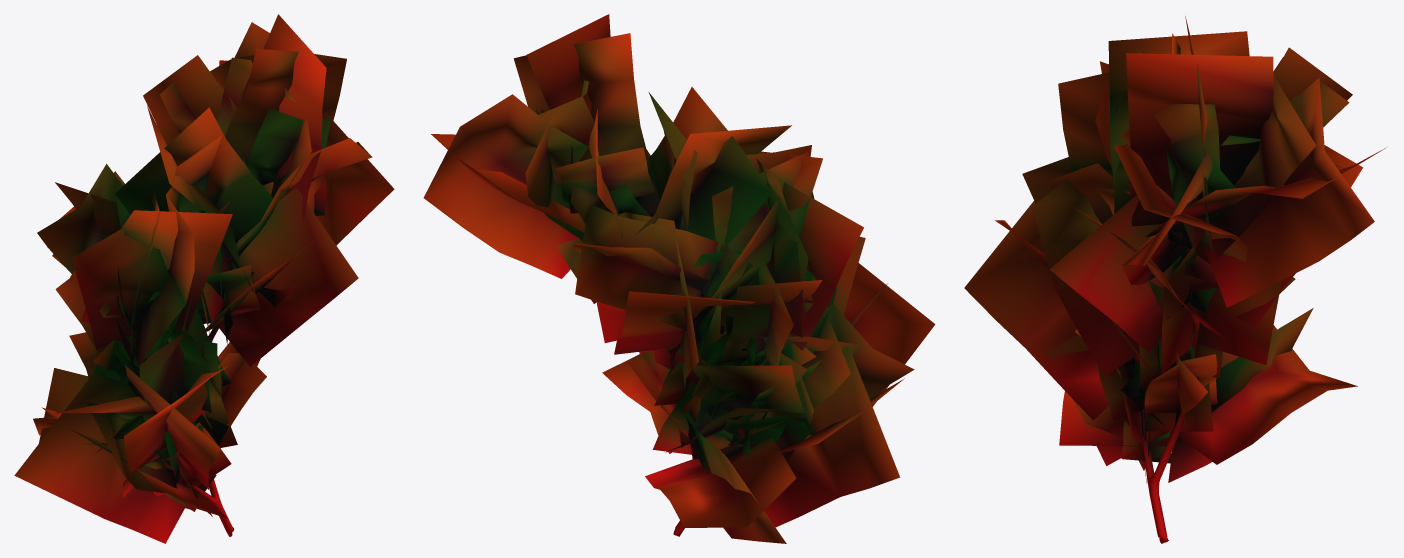
Rendered from GenericTreeRHEWP_C.fbx.
The picture shows the model from 3 angles, left to right: view 1: azimuth 30°, elevation 25°; view 2: azimuth 150°, elevation 25°; view 3: azimuth 270°, elevation 25°; orthographic projection. The views are drawn at different scales.
Parts seen in each view (by area): view 1: GTBCS_Leaves_LOD0, GTBCS_Branch_LOD0; view 2: GTBCS_Leaves_LOD0; view 3: GTBCS_Leaves_LOD0, GTBCS_Branch_LOD0.
Part boxes in pixels (x1,y1,x2,y2): GTBCS_Leaves_LOD0: (14,14,394,543); GTBCS_Branch_LOD0: (134,272,253,536); GTBCS_Leaves_LOD0: (423,14,935,543); GTBCS_Leaves_LOD0: (964,16,1386,482); GTBCS_Branch_LOD0: (1141,217,1213,543).
Size of what is drawn, in the model's own units: 6.55 by 7.66 by 5.38.
